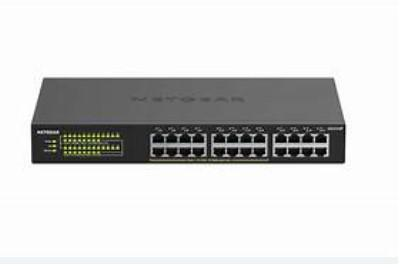NetworkSwitch: (30, 77, 348, 166)
